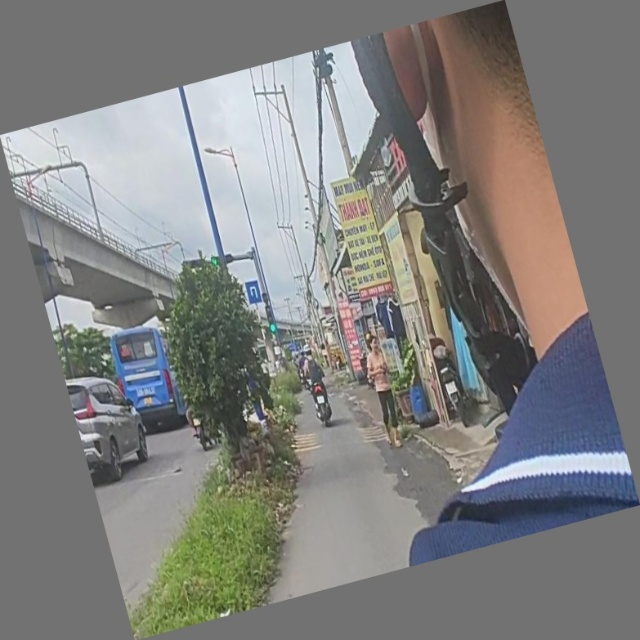I.409: (244, 277, 265, 309)
